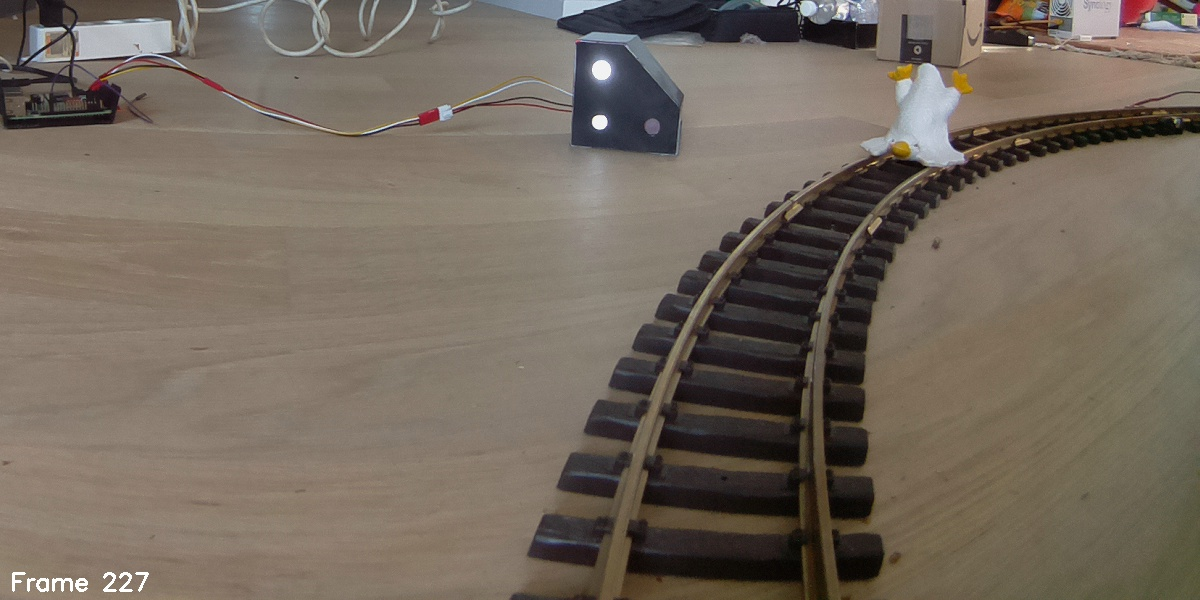Ente: (859, 60, 973, 174)
Fahrt: (572, 33, 682, 154)
